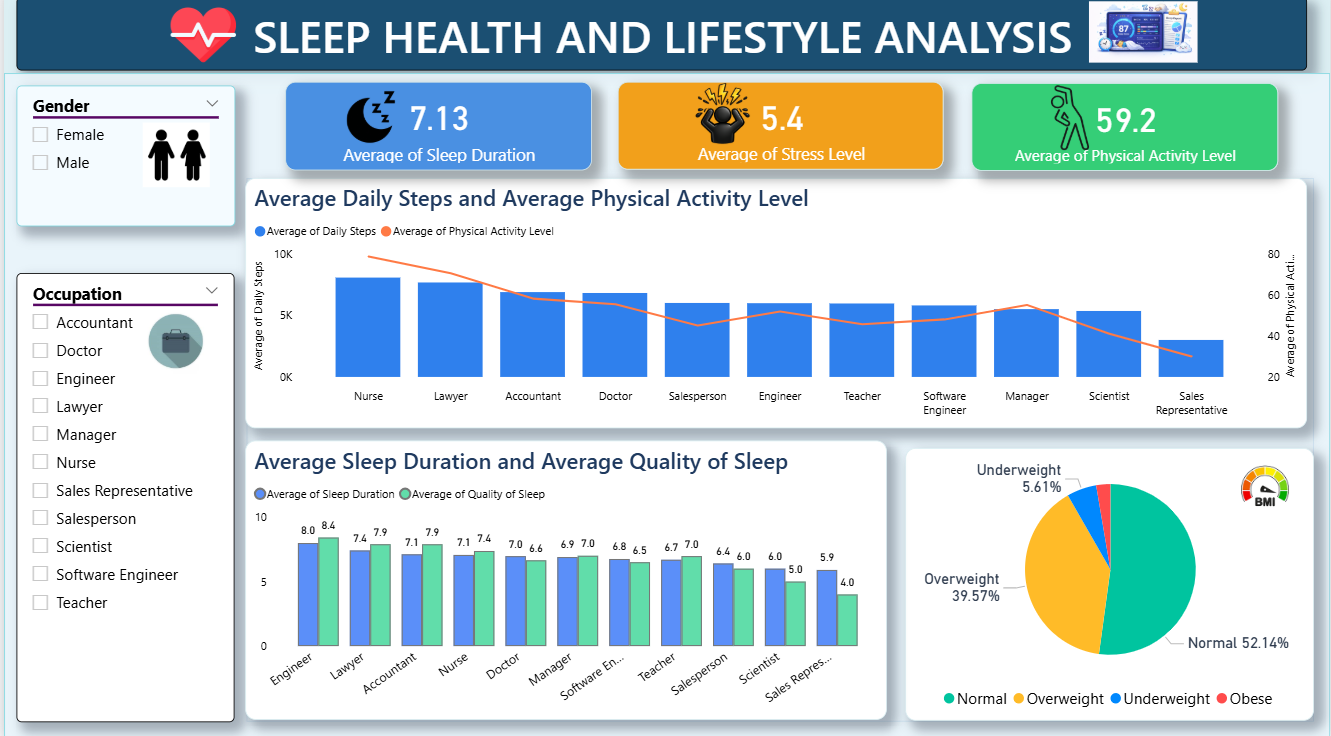

What the dashboard file says about the page in this screenshot:
{"tool":"powerbi","page":{"name":"Overview","canvas":[1280,720],"ordinal":0},"visuals":[{"type":"shape","box":[234,178.6,1030.3,524.8],"z":0},{"type":"textbox","box":[12.2,4.1,1245.9,71],"z":1000},{"type":"shape","box":[0,77.2,1280,643],"z":2000},{"type":"slicer","fields":{"Values":["Sleep_health_and_lifestyle_dataset (3).Gender"]},"box":[12.2,89.3,211,136],"z":3000},{"type":"slicer","fields":{"Values":["Sleep_health_and_lifestyle_dataset (3).Occupation"]},"box":[12.4,270.6,210.4,433.3],"z":4000},{"type":"lineStackedColumnComboChart","title":"Average Daily Steps and Average Physical Activity Level","fields":{"Category":["Sleep_health_and_lifestyle_dataset (3).Occupation"],"Y":["Avg(Sleep_health_and_lifestyle_dataset (3).Daily Steps)"],"Y2":["Avg(Sleep_health_and_lifestyle_dataset (3).Physical Activity Level)"]},"box":[233.4,178.6,1024.7,241.5],"z":5000},{"type":"card","fields":{"Values":["Avg(Sleep_health_and_lifestyle_dataset (3).Physical Activity Level)"]},"box":[933.4,87,295.6,84.6],"z":6000},{"type":"card","fields":{"Values":["Avg(Sleep_health_and_lifestyle_dataset (3).Stress Level)"]},"box":[592.4,85.8,314.7,84.6],"z":7000},{"type":"pieChart","fields":{"Category":["Sleep_health_and_lifestyle_dataset (3).BMI Category"],"Y":["CountNonNull(Sleep_health_and_lifestyle_dataset (3).BMI Category)"]},"box":[870.1,438.6,394.4,263.5],"z":8000},{"type":"clusteredColumnChart","title":"Average Sleep Duration and Average Quality of Sleep","fields":{"Y":["Avg(Sleep_health_and_lifestyle_dataset (3).Sleep Duration)","Avg(Sleep_health_and_lifestyle_dataset (3).Quality of Sleep)"],"Category":["Sleep_health_and_lifestyle_dataset (3).Occupation"]},"box":[233.4,432.2,618.9,269.9],"z":9000},{"type":"card","fields":{"Values":["Avg(Sleep_health_and_lifestyle_dataset (3).Sleep Duration)"]},"box":[271.8,85.8,295.6,85.8],"z":10000},{"type":"image","box":[139.9,3.6,105,73.6],"z":11000},{"type":"image","box":[114.6,299.2,102.5,73.6],"z":12000},{"type":"image","box":[129.1,114.6,74.8,83.2],"z":13000},{"type":"image","box":[1177.5,399.3,79.6,153.2],"z":14000},{"type":"image","box":[313.7,84.5,82,77.2],"z":15000},{"type":"image","box":[651.5,57.9,84.5,120.6],"z":16000},{"type":"image","box":[1042.4,0,114.6,74.8],"z":17000},{"type":"image","box":[986.9,55.5,80.8,133.9],"z":18000}]}

Visuals, with their boxes in screenshot pixels (x1, y1, x2, y2), scaled from the page's 1280x720 canvas onto the 1331x736 screenshot:
shape: (243, 183, 1315, 719)
textbox: (13, 4, 1308, 77)
shape: (0, 79, 1330, 735)
slicer - Sleep_health_and_lifestyle_dataset (3).Gender: (13, 91, 232, 230)
slicer - Sleep_health_and_lifestyle_dataset (3).Occupation: (13, 277, 232, 720)
"Average Daily Steps and Average Physical Activity Level" lineStackedColumnComboChart: (243, 183, 1308, 429)
card - Avg(Sleep_health_and_lifestyle_dataset (3).Physical Activity Level): (971, 89, 1278, 175)
card - Avg(Sleep_health_and_lifestyle_dataset (3).Stress Level): (616, 88, 943, 174)
pieChart - Sleep_health_and_lifestyle_dataset (3).BMI Category x CountNonNull(Sleep_health_and_lifestyle_dataset (3).BMI Category): (905, 448, 1315, 718)
"Average Sleep Duration and Average Quality of Sleep" clusteredColumnChart: (243, 442, 886, 718)
card - Avg(Sleep_health_and_lifestyle_dataset (3).Sleep Duration): (283, 88, 590, 175)
image: (145, 4, 255, 79)
image: (119, 306, 226, 381)
image: (134, 117, 212, 202)
image: (1224, 408, 1307, 565)
image: (326, 86, 411, 165)
image: (677, 59, 765, 182)
image: (1084, 0, 1203, 76)
image: (1026, 57, 1110, 194)
